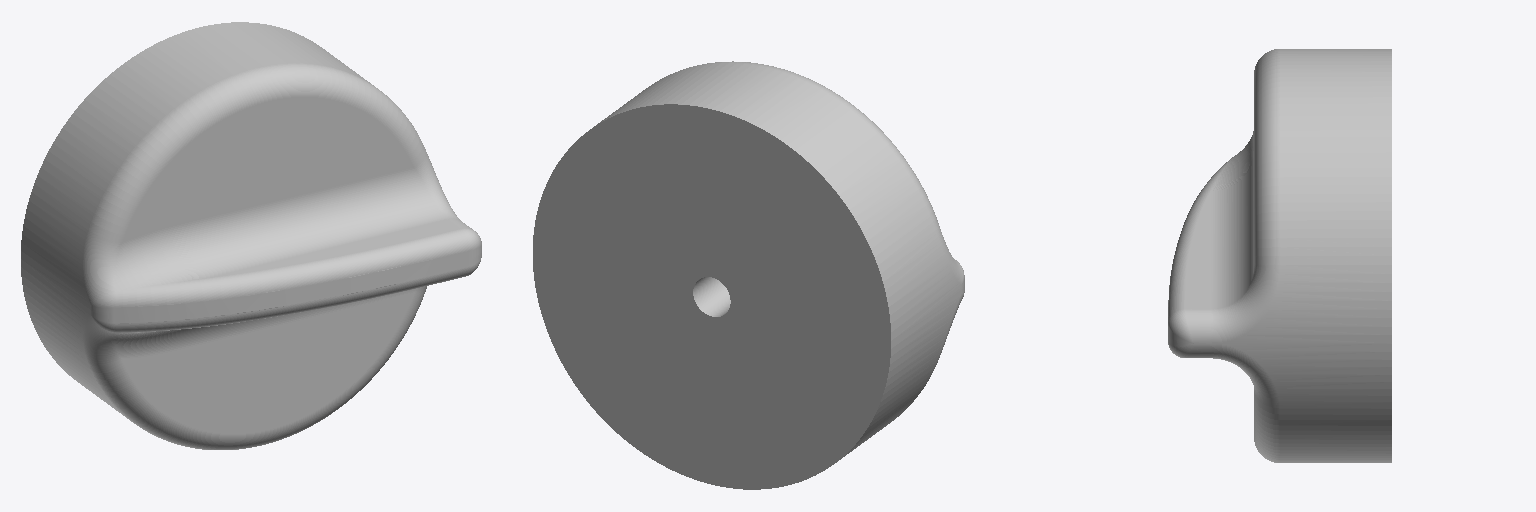
Rendered from Stove_Knob.obj.
3 renders of one model, left to right at view 1: azimuth 30°, elevation 25°; view 2: azimuth 150°, elevation 25°; view 3: azimuth 270°, elevation 25°, orthographic.
Size of the model in its own units: 76.2 by 76.2 by 41.27.